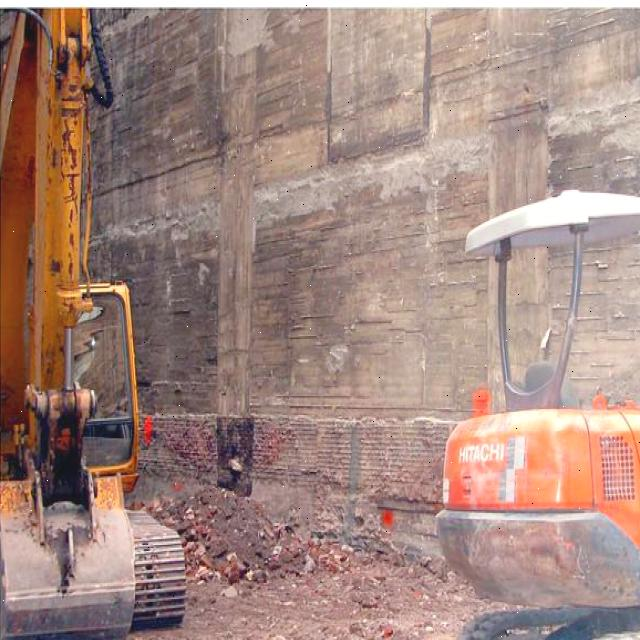Excavator: (0, 7, 188, 640), (440, 191, 640, 639)
